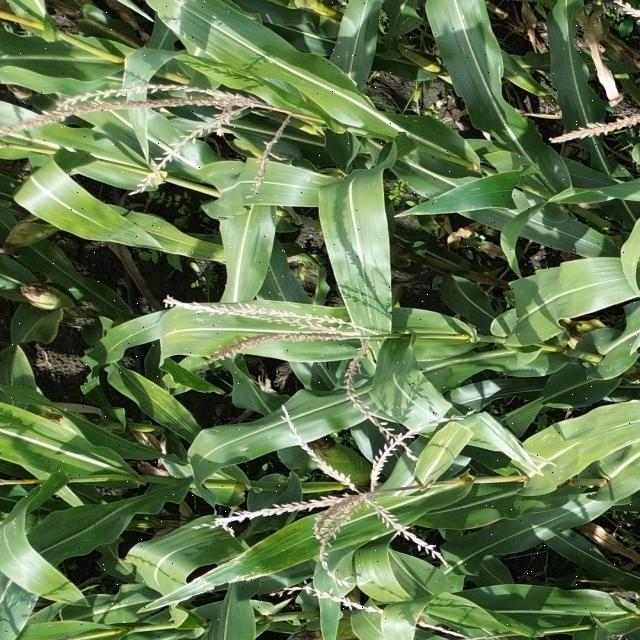gray-leaf-spot: (459, 36, 506, 82), (85, 213, 147, 244), (168, 360, 224, 394), (150, 400, 202, 432), (533, 426, 566, 447)
